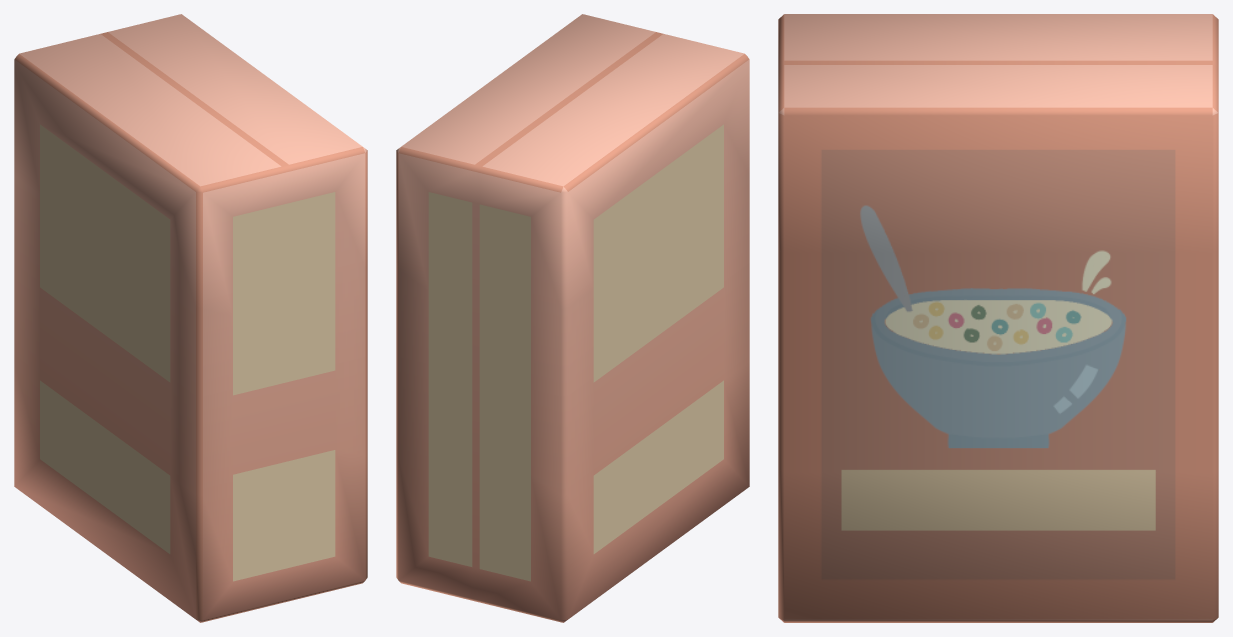
File: cerealbox.fbx
3 renders of one model, left to right at view 1: azimuth 30°, elevation 25°; view 2: azimuth 150°, elevation 25°; view 3: azimuth 270°, elevation 25°, orthographic. The views are drawn at different scales.
Visible parts, largest first — view 1: Cube; view 2: Cube; view 3: Cube.
Boxes of the visible parts, x1,y1,x2,y2 form: Cube: (14,14,367,622); Cube: (396,14,749,622); Cube: (778,14,1218,622).
Size of the model in its own units: 1.59 by 3.87 by 3.
1 material, 1 textured.
